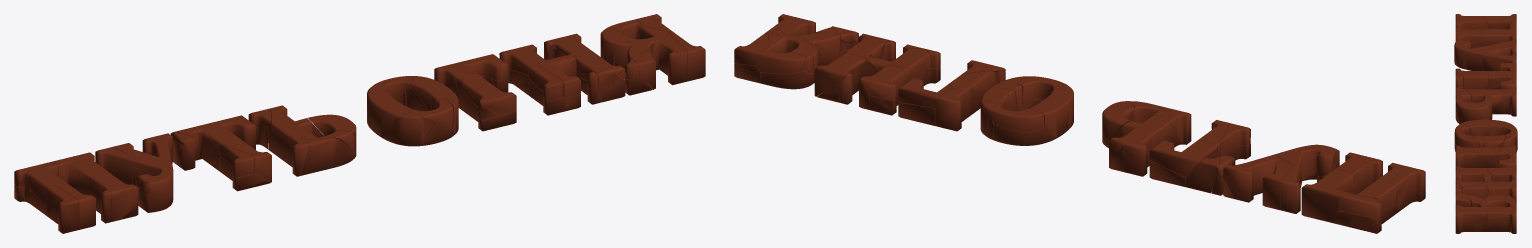
File: firepath.glb
The picture shows the model from 3 angles, left to right: view 1: azimuth 30°, elevation 25°; view 2: azimuth 150°, elevation 25°; view 3: azimuth 270°, elevation 25°; orthographic projection. The views are drawn at different scales.
Visible parts, largest first — view 1: Text_cell.001, Text_cell.024, Text_cell.031, Text_cell.044, Text_cell.027, Text_cell.021, Text_cell.040, Text_cell.074, Text_cell.028, Text_cell.054, Text_cell.087, Text_cell.095 (+32 smaller); view 2: Text_cell.095, Text_cell.040, Text_cell.001, Text_cell.054, Text_cell.031, Text_cell.027, Text_cell.072, Text_cell.036, Text_cell.049, Text_cell.064, Text_cell.021, Text_cell.017 (+35 smaller); view 3: Text_cell.001, Text_cell.031, Text_cell.095, Text_cell.020, Text_cell.027, Text_cell.054, Text_cell.040, Text_cell.034, Text_cell.045, Text_cell.064, Text_cell.028, Text_cell.002 (+39 smaller).
Part boxes in pixels (x1,y1,x2,y2): Text_cell.001: (268, 105, 323, 167); Text_cell.024: (299, 138, 354, 176); Text_cell.031: (133, 157, 173, 197); Text_cell.044: (651, 33, 687, 85); Text_cell.027: (367, 90, 411, 138); Text_cell.021: (45, 185, 79, 233); Text_cell.040: (54, 152, 108, 194); Text_cell.074: (383, 112, 434, 146); Text_cell.028: (94, 172, 138, 221); Text_cell.054: (193, 115, 255, 145); Text_cell.087: (95, 146, 135, 184); Text_cell.095: (114, 133, 172, 158); Text_cell.095: (1223, 154, 1293, 210); Text_cell.040: (1301, 169, 1354, 223); Text_cell.001: (1109, 115, 1179, 172); Text_cell.054: (1149, 139, 1217, 176); Text_cell.031: (1275, 144, 1336, 187); Text_cell.027: (1029, 89, 1073, 138); Text_cell.072: (935, 88, 969, 131); Text_cell.036: (861, 65, 909, 101); Text_cell.049: (987, 103, 1044, 132); Text_cell.064: (814, 52, 866, 96); Text_cell.021: (1389, 166, 1425, 211); Text_cell.017: (757, 47, 806, 73); Text_cell.001: (1466, 89, 1516, 119); Text_cell.031: (1454, 40, 1492, 70); Text_cell.095: (1483, 44, 1516, 70); Text_cell.020: (1455, 209, 1487, 233); Text_cell.027: (1464, 119, 1504, 135); Text_cell.054: (1488, 69, 1516, 89); Text_cell.040: (1482, 25, 1516, 46); Text_cell.034: (1459, 98, 1492, 118); Text_cell.045: (1460, 71, 1488, 89); Text_cell.064: (1487, 180, 1516, 202); Text_cell.028: (1455, 29, 1482, 48); Text_cell.002: (1487, 207, 1516, 224).
Bounding box in the file's own units: 4.01 × 0.18 × 0.5298.
